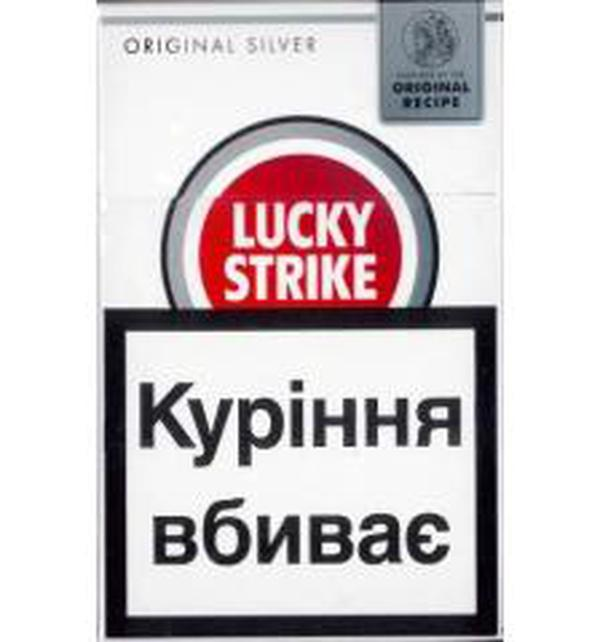lucky_strike_red: (101, 3, 499, 637)
